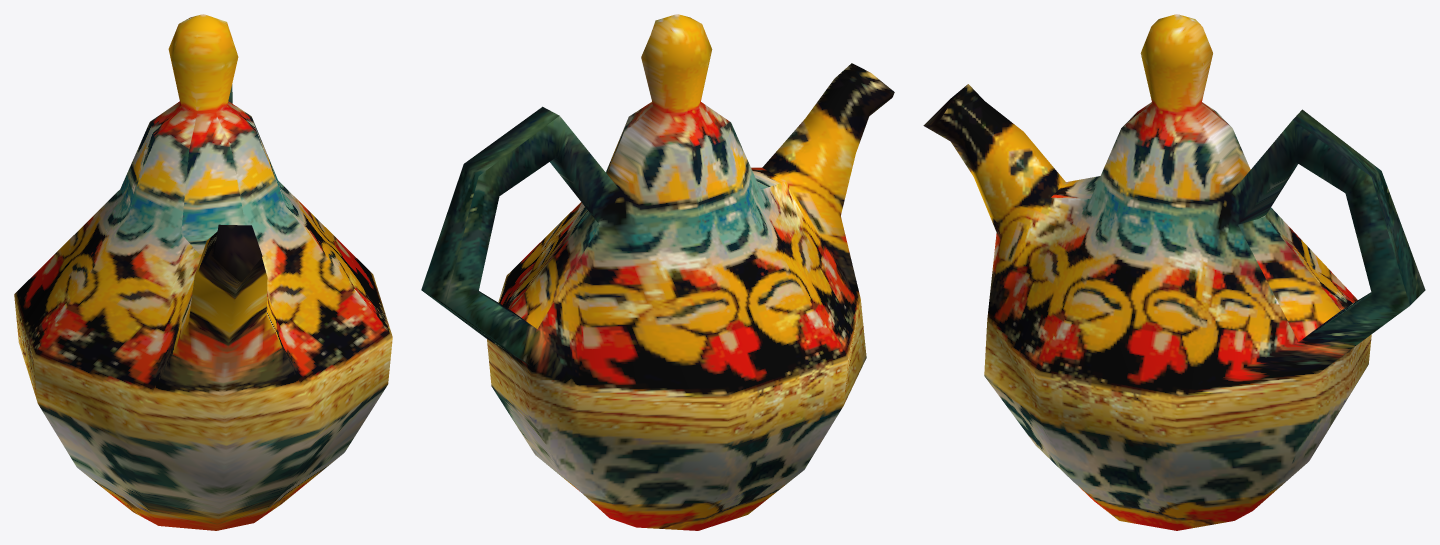
The model's file is it_teapot.fbx.
3 views of the same model, side by side, from view 1: azimuth 30°, elevation 25°; view 2: azimuth 150°, elevation 25°; view 3: azimuth 270°, elevation 25° (orthographic).
Parts seen in each view (by area): view 1: mesh_0; view 2: mesh_0; view 3: mesh_0.
Boxes of the visible parts, x1=… form: mesh_0: x1=14, y1=14, x2=392, y2=530; mesh_0: x1=421, y1=14, x2=894, y2=530; mesh_0: x1=923, y1=14, x2=1425, y2=530.
Bounding box in the file's own units: 22.08 × 29.9 × 28.2.
Materials: 1 (1 with a texture image).
